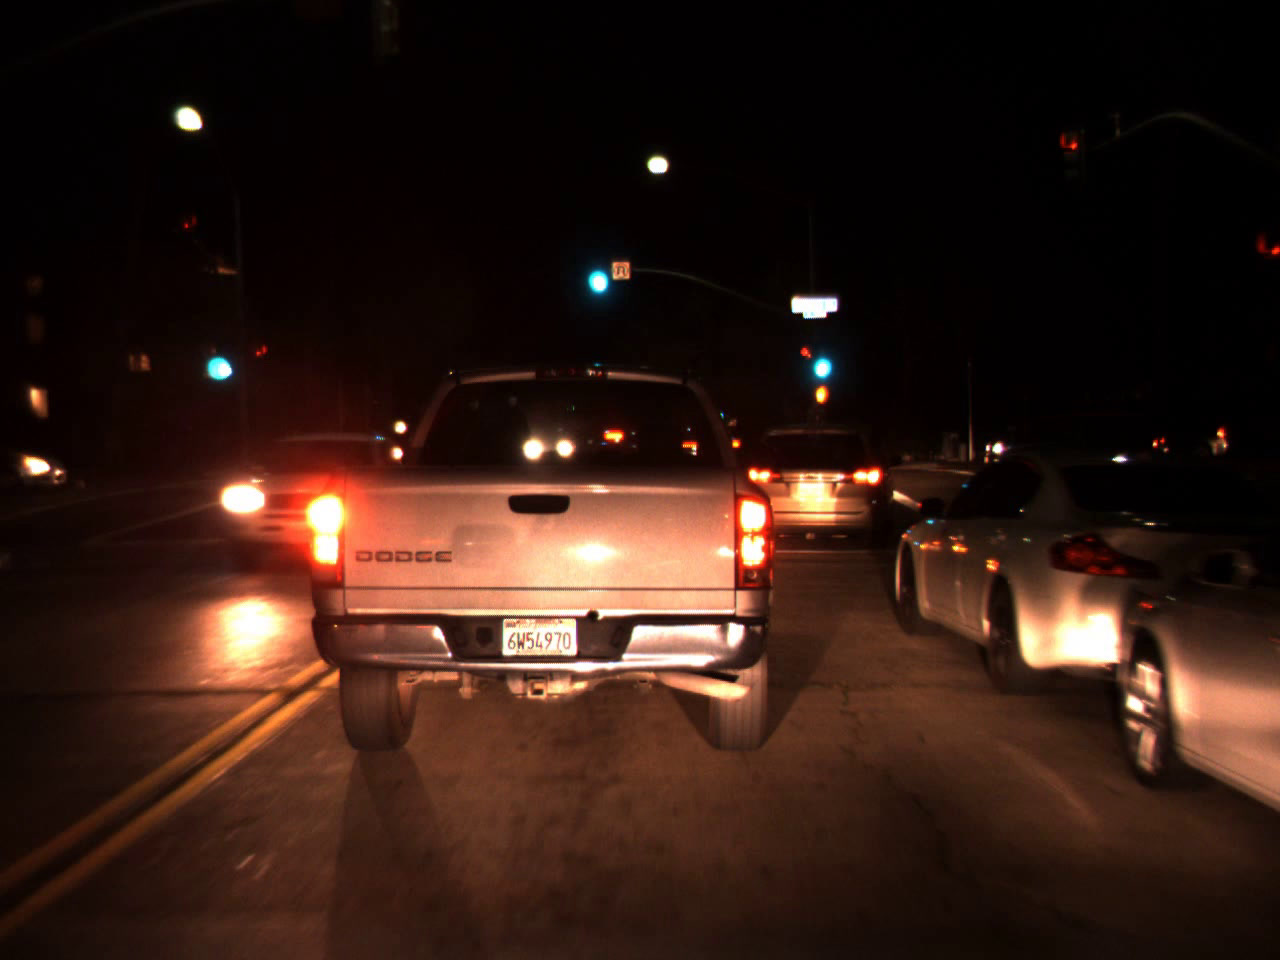go: (198, 329, 235, 386), (579, 242, 613, 302), (805, 330, 835, 387)
